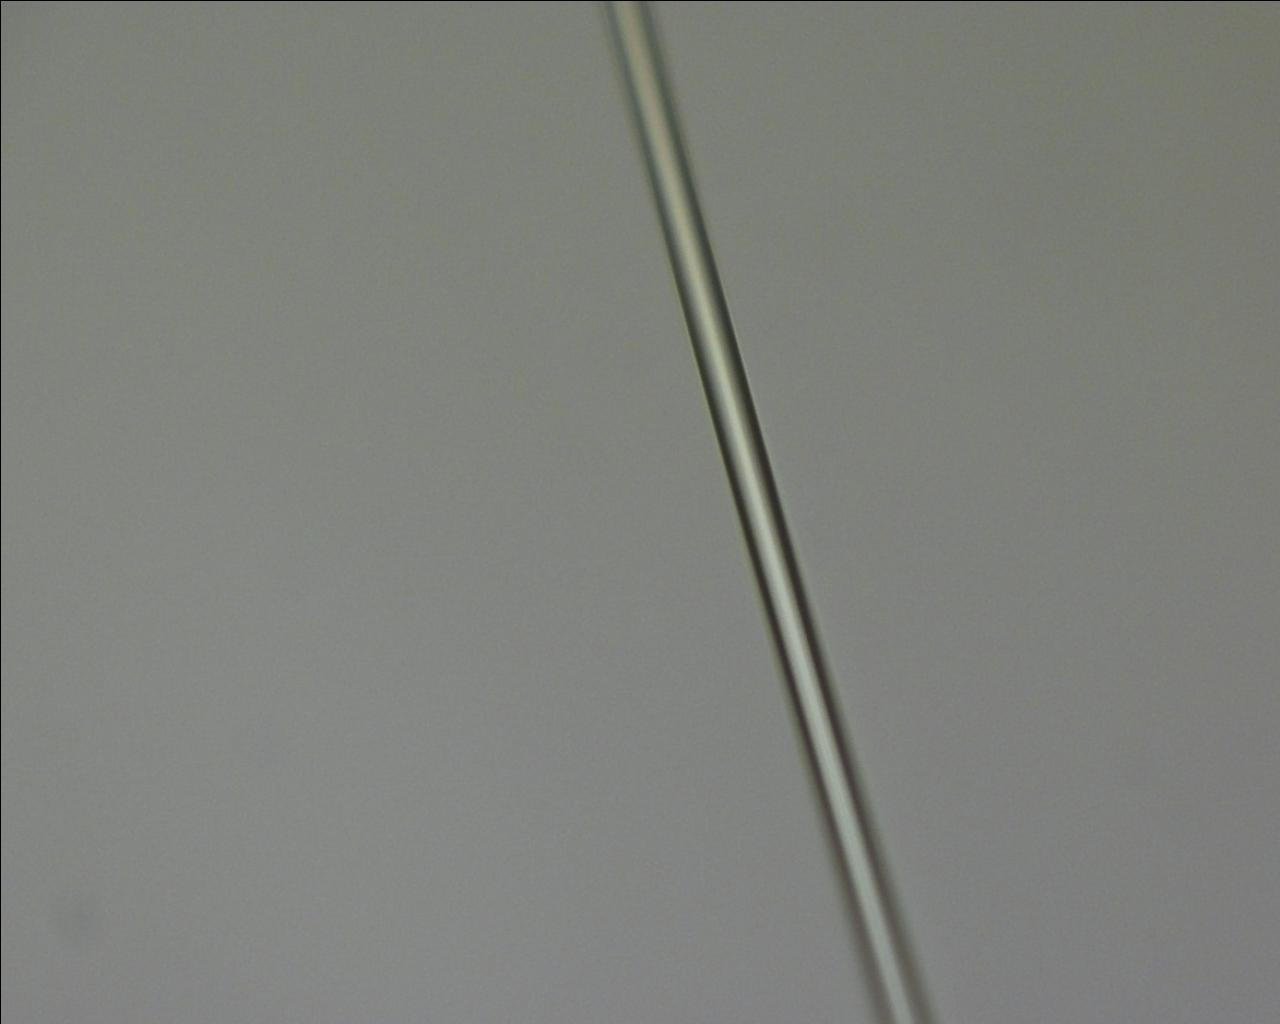fiber: (62, 512, 294, 1024), (737, 0, 881, 512), (687, 512, 782, 1024)
